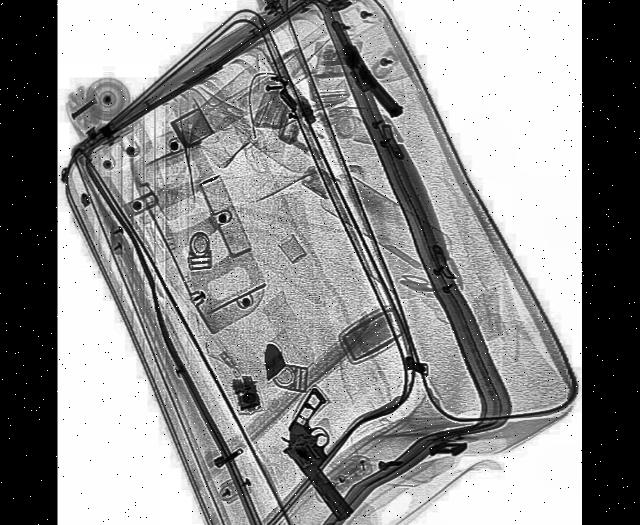Gun: (276, 382, 384, 525), (328, 3, 404, 132)
